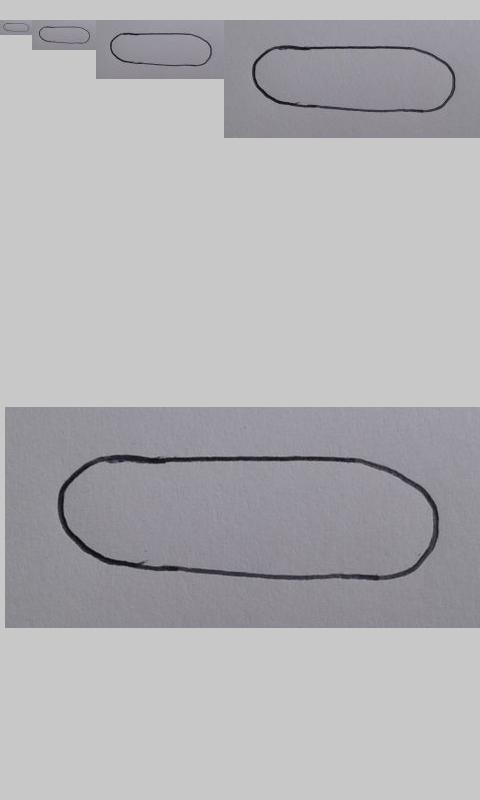chip: (56, 453, 441, 581), (252, 45, 457, 114), (110, 32, 212, 67), (38, 25, 91, 44), (3, 22, 30, 33)
